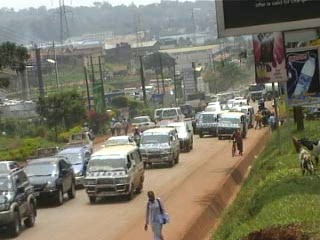Car: (20, 154, 76, 209), (0, 167, 38, 236), (46, 146, 93, 189), (126, 113, 157, 139), (0, 156, 27, 183), (187, 109, 206, 134), (200, 97, 223, 117)
Motorcycle: (129, 126, 144, 146)
